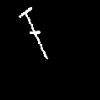double_crochet: (19, 7, 47, 58)
